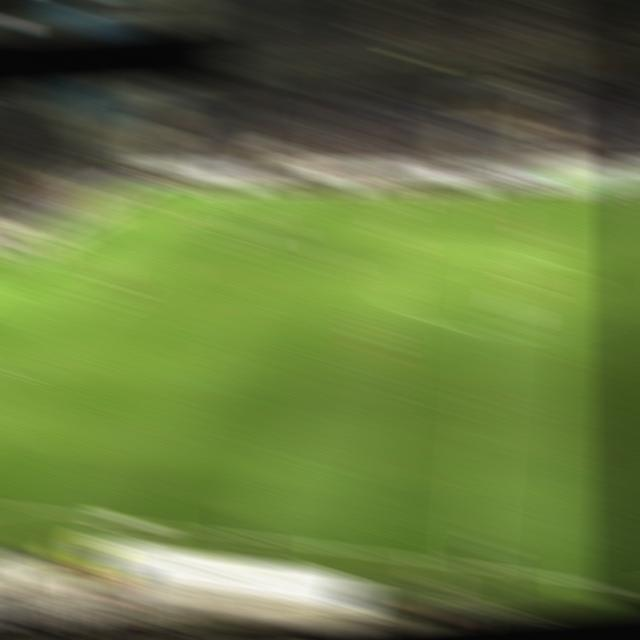bigarea_bottom_inner: (0, 362, 22, 380)
bigarea_top_inner: (191, 210, 225, 227)
bigarea_top_outter: (77, 208, 111, 227)
bottom_arc_area_intersection: (79, 293, 113, 311)
corner: (125, 183, 159, 202)
halfcircle_bottom: (472, 322, 507, 342)
halfcircle_top: (478, 243, 513, 264)
midline_bottom_intersection: (450, 551, 492, 581)
midline_top_intersection: (482, 183, 517, 204), (484, 187, 516, 202)
smallarea_top_inner: (68, 234, 101, 252)
smallarea_top_outter: (30, 233, 63, 252)
top_arc_area_intersection: (146, 242, 180, 260)
